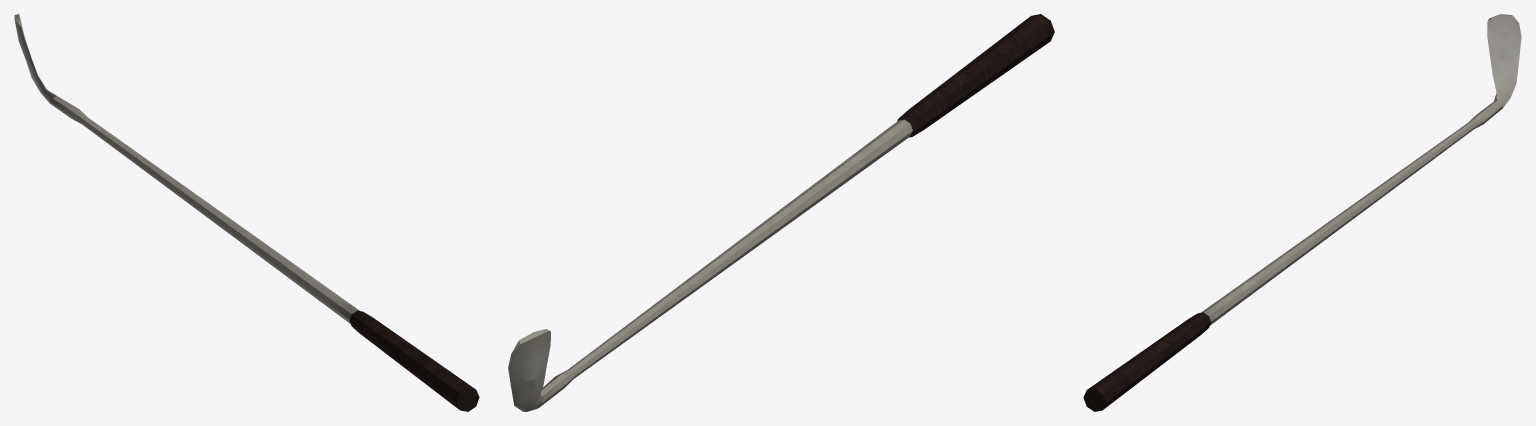
Rendered from golf_club.glb.
3 views of the same model, side by side, from view 1: azimuth 30°, elevation 25°; view 2: azimuth 150°, elevation 25°; view 3: azimuth 330°, elevation 25° (orthographic). The views are drawn at different scales.
Parts seen in each view (by area): view 1: GoodFishingRod; view 2: GoodFishingRod; view 3: GoodFishingRod.
Boxes of the visible parts, <box> form: GoodFishingRod: <box>14,14,479,411</box>; GoodFishingRod: <box>508,14,1054,411</box>; GoodFishingRod: <box>1083,14,1521,411</box>.
Bounding box in the file's own units: 0.0935 × 0.212 × 2.
1 material, 1 textured.
